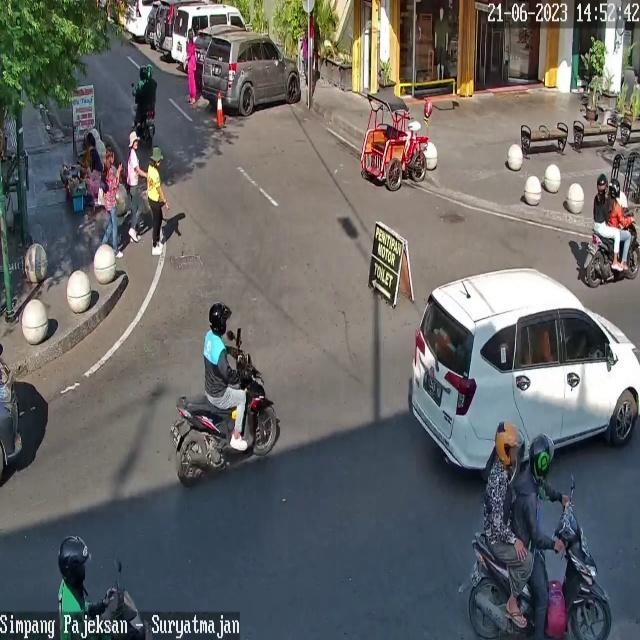bus: (457, 498, 612, 640), (168, 348, 277, 487), (582, 206, 640, 289), (110, 583, 157, 640), (134, 106, 154, 149)
motorcycle: (408, 267, 640, 470), (203, 31, 300, 115), (172, 4, 247, 64), (0, 359, 23, 466), (190, 28, 213, 83), (154, 0, 175, 54), (124, 0, 151, 35)
